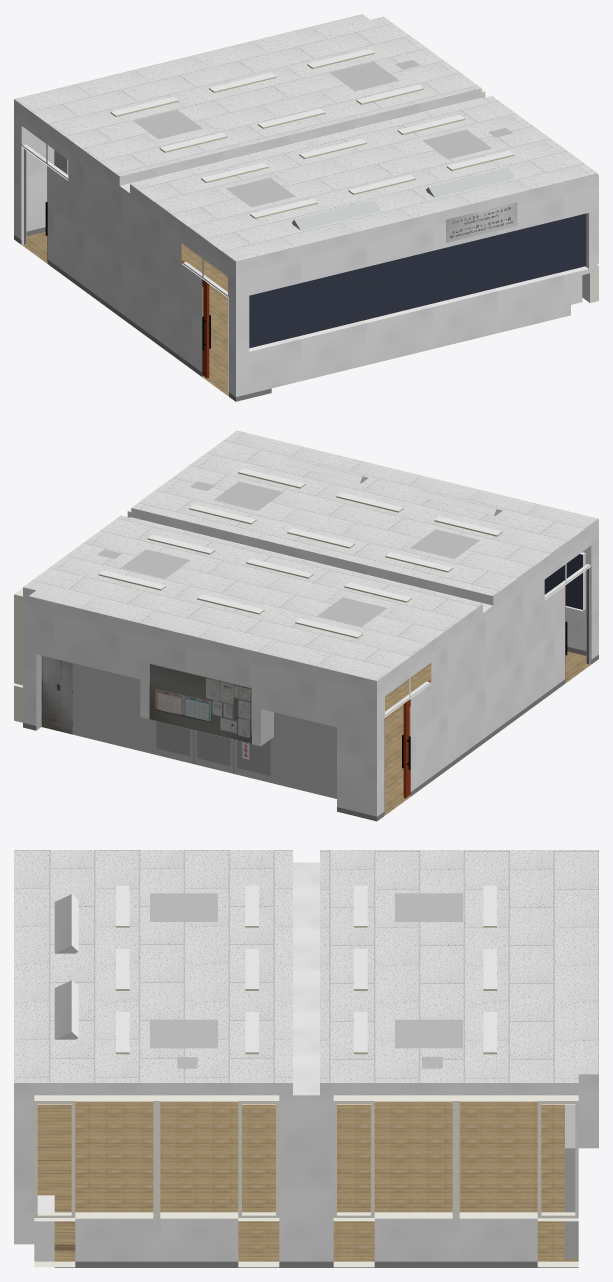
Rendered from ClassRoom.fbx.
3 views of the same model, one above another, from view 1: azimuth 30°, elevation 25°; view 2: azimuth 150°, elevation 25°; view 3: azimuth 270°, elevation 25° (orthographic). The views are drawn at different scales.
Visible parts, largest first — view 1: ClassRoom; view 2: ClassRoom; view 3: ClassRoom.
Part boxes in pixels (x1,y1,x2,y2): ClassRoom: (14, 14, 598, 401); ClassRoom: (14, 430, 598, 821); ClassRoom: (14, 850, 598, 1267).
Size of the model in its own units: 834 by 313 by 860.
